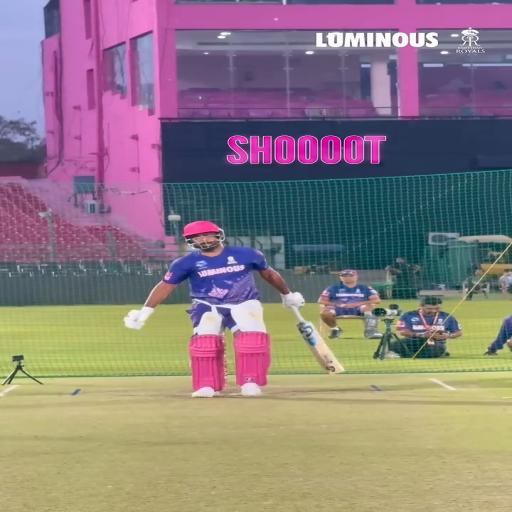Cricket bat: (292, 307, 344, 374)
